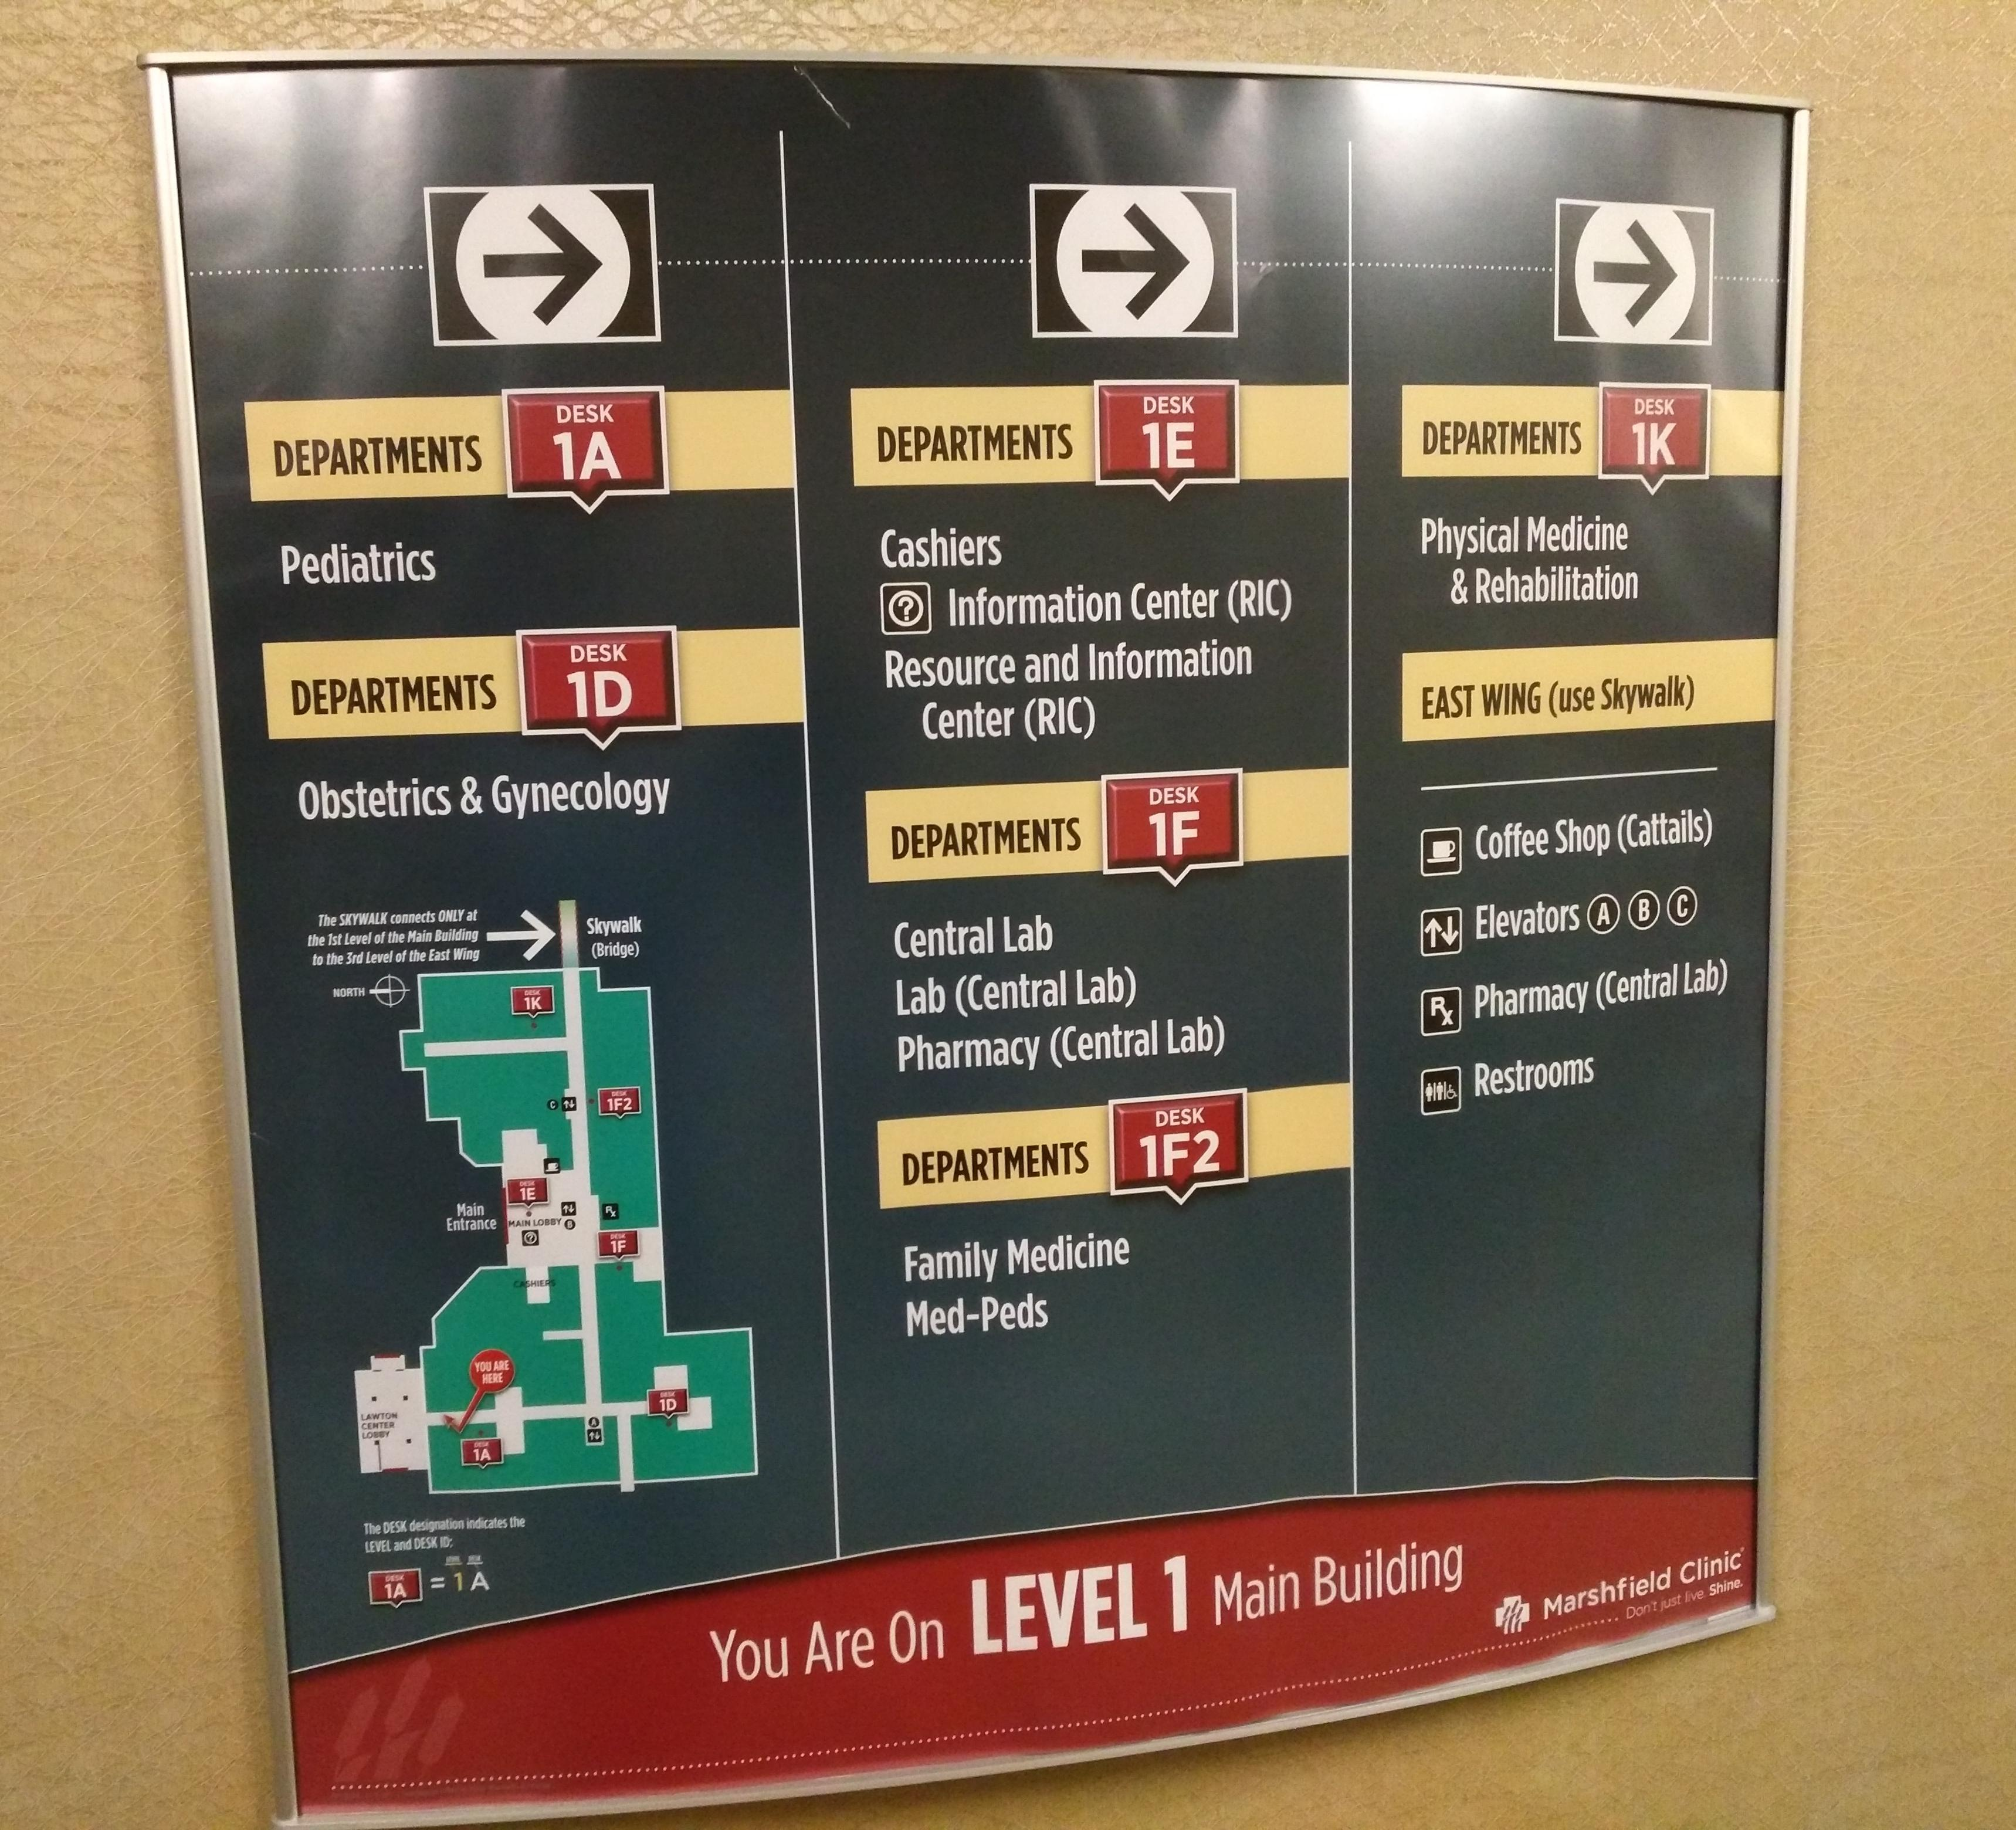sign: (140, 46, 1812, 1828)
